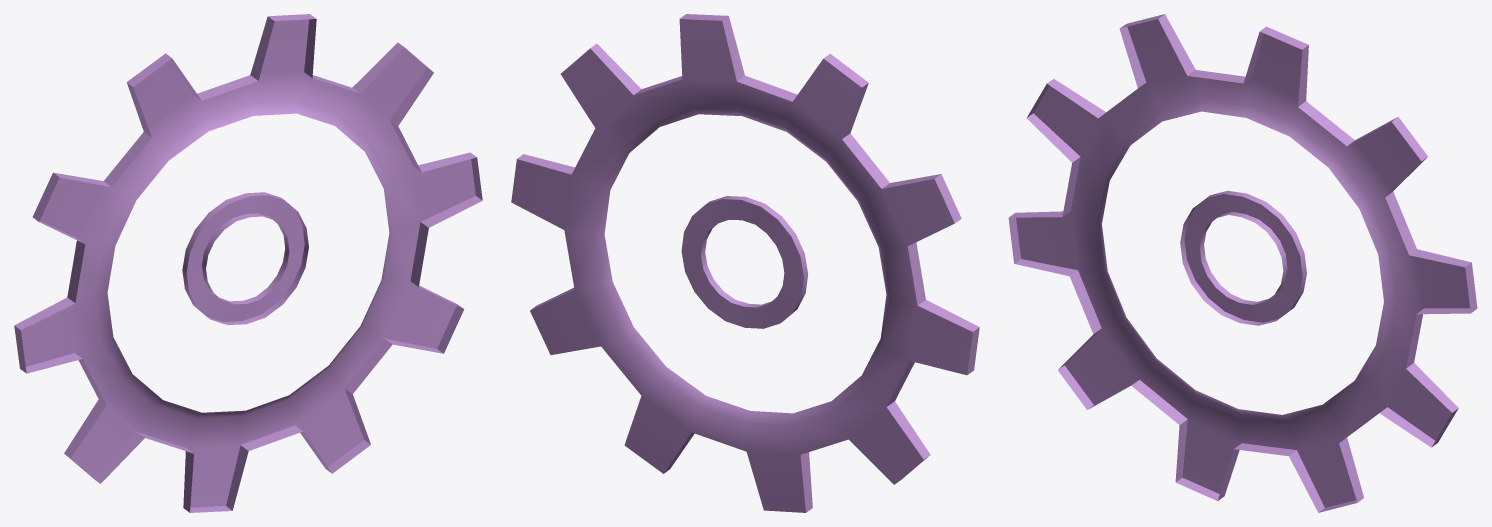
File: gear2.FBX
The picture shows the model from 3 angles, left to right: view 1: azimuth 30°, elevation 25°; view 2: azimuth 150°, elevation 25°; view 3: azimuth 330°, elevation 25°; orthographic projection.
Visible parts, largest first — view 1: gear2; view 2: gear2; view 3: gear2.
Boxes of the visible parts, x1,y1,x2,y2 form: gear2: [14, 14, 482, 512]; gear2: [511, 14, 979, 512]; gear2: [1008, 14, 1477, 512].
Bounding box in the file's own units: 63.48 × 62.98 × 2.24.
